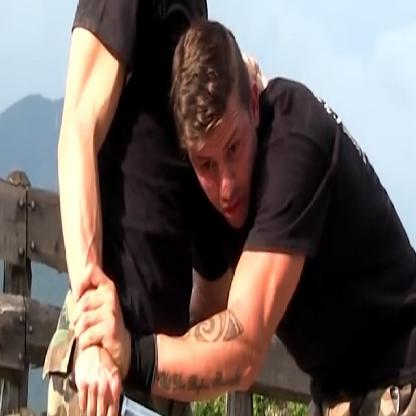knife: (64, 358, 197, 415)
